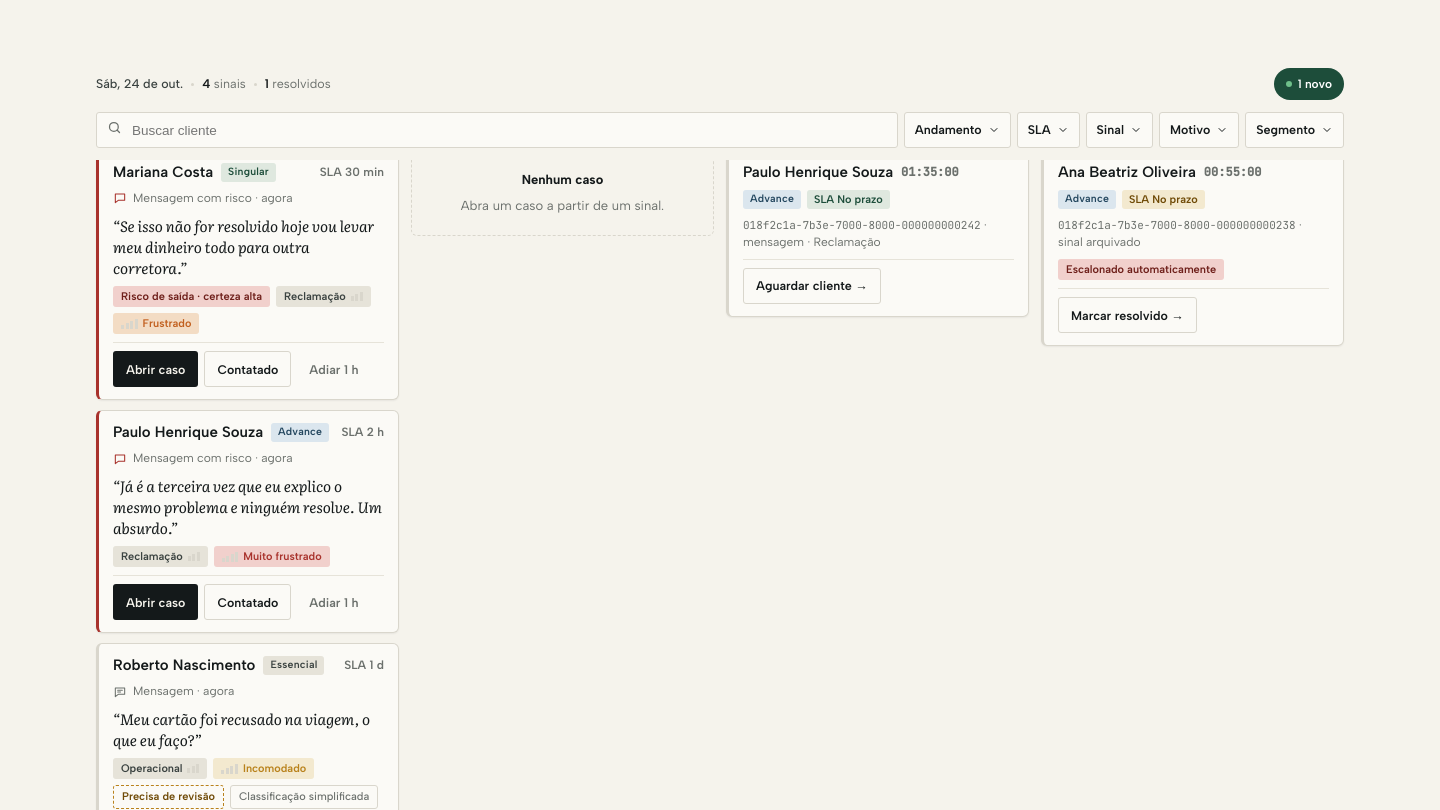
Scenario: QueueScreen › keeps a pill signal off the board after Desfazer reload
Check: the button "1 novo" is shown, box 1274,68 -> 1344,100
Click the button "Adiar 1 h" below "Risco de saída · certeza" at (334, 369), box 297,351 -> 370,387
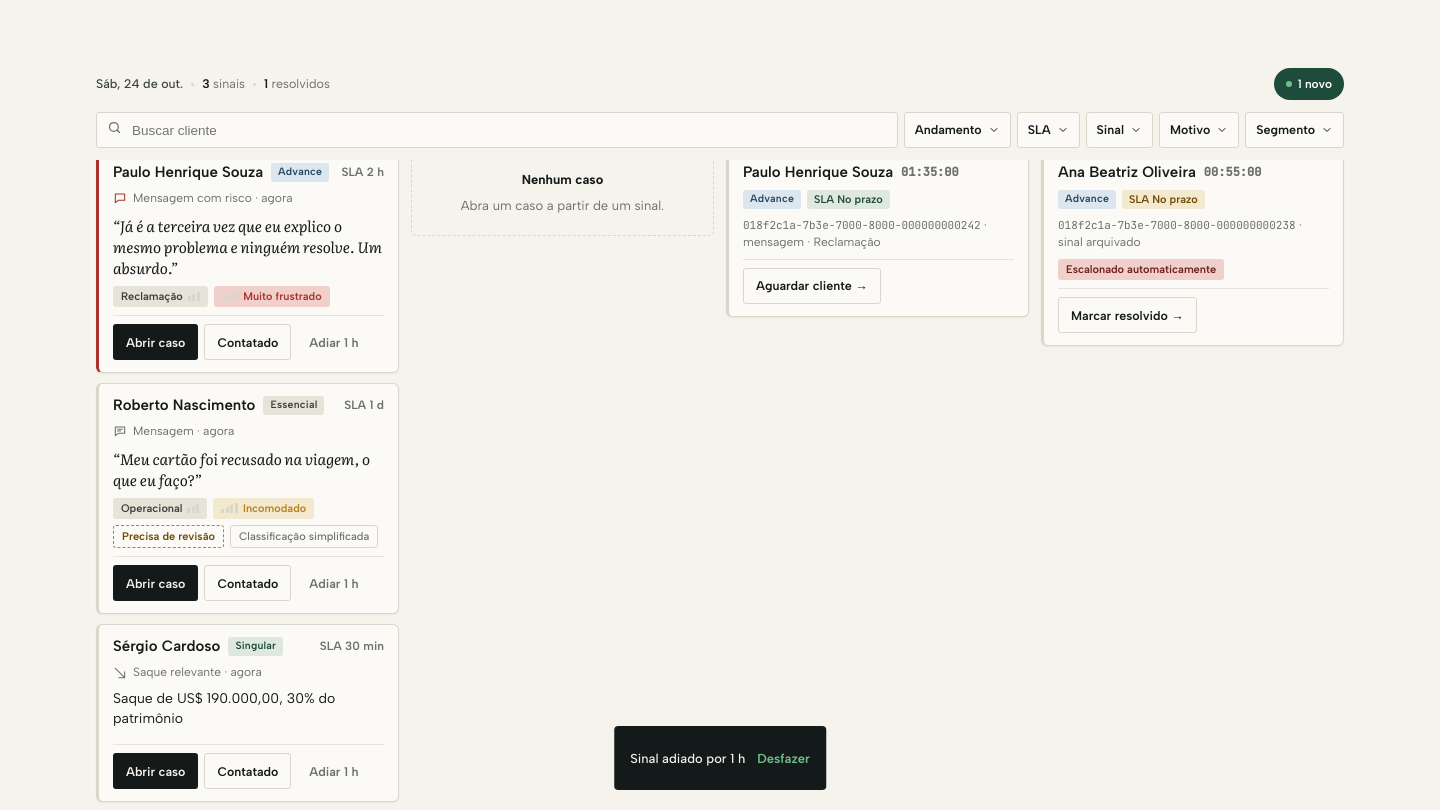
Click the button "Desfazer" at (784, 758), box 757,736 -> 810,780
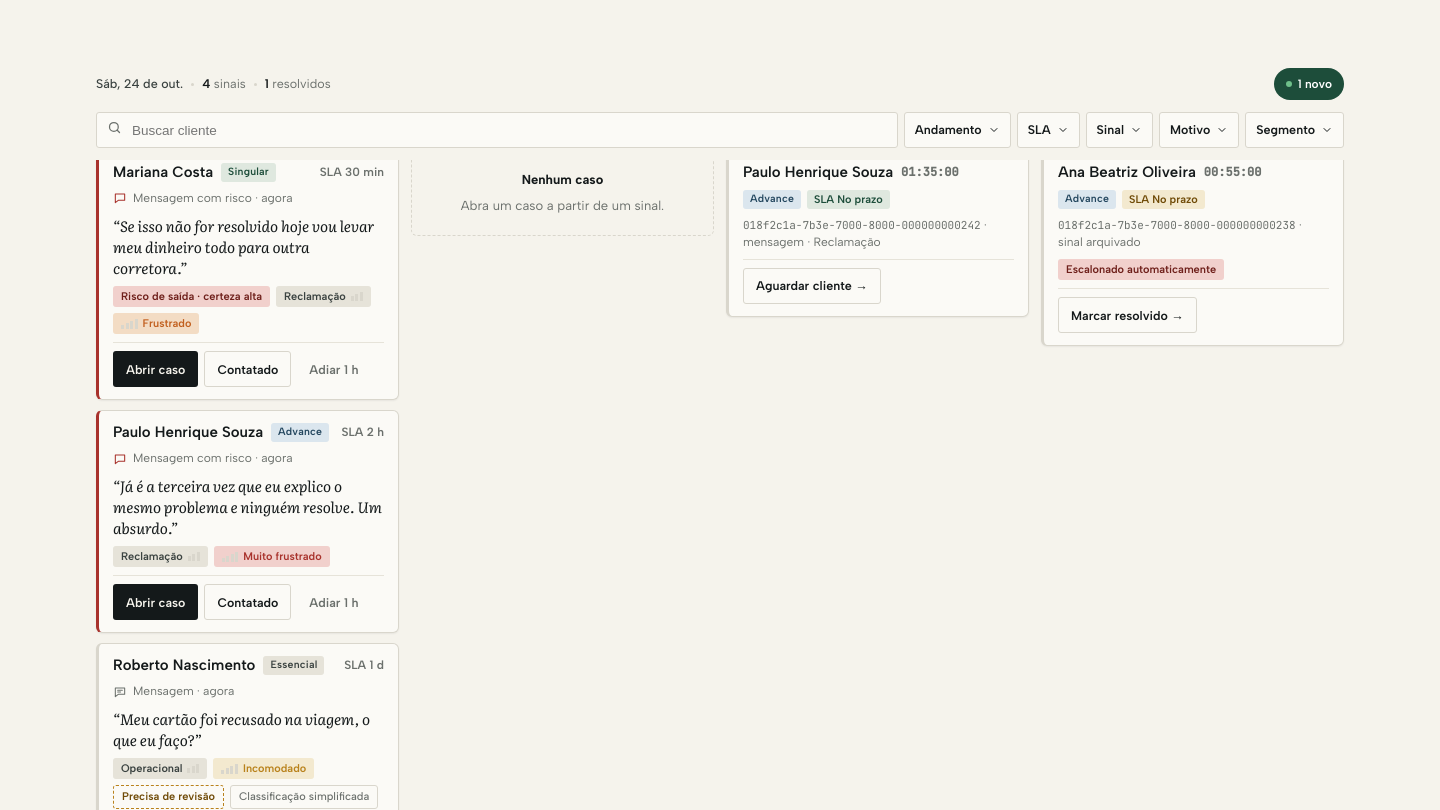
Click the button "1 novo" at (1309, 84), box 1274,68 -> 1344,100
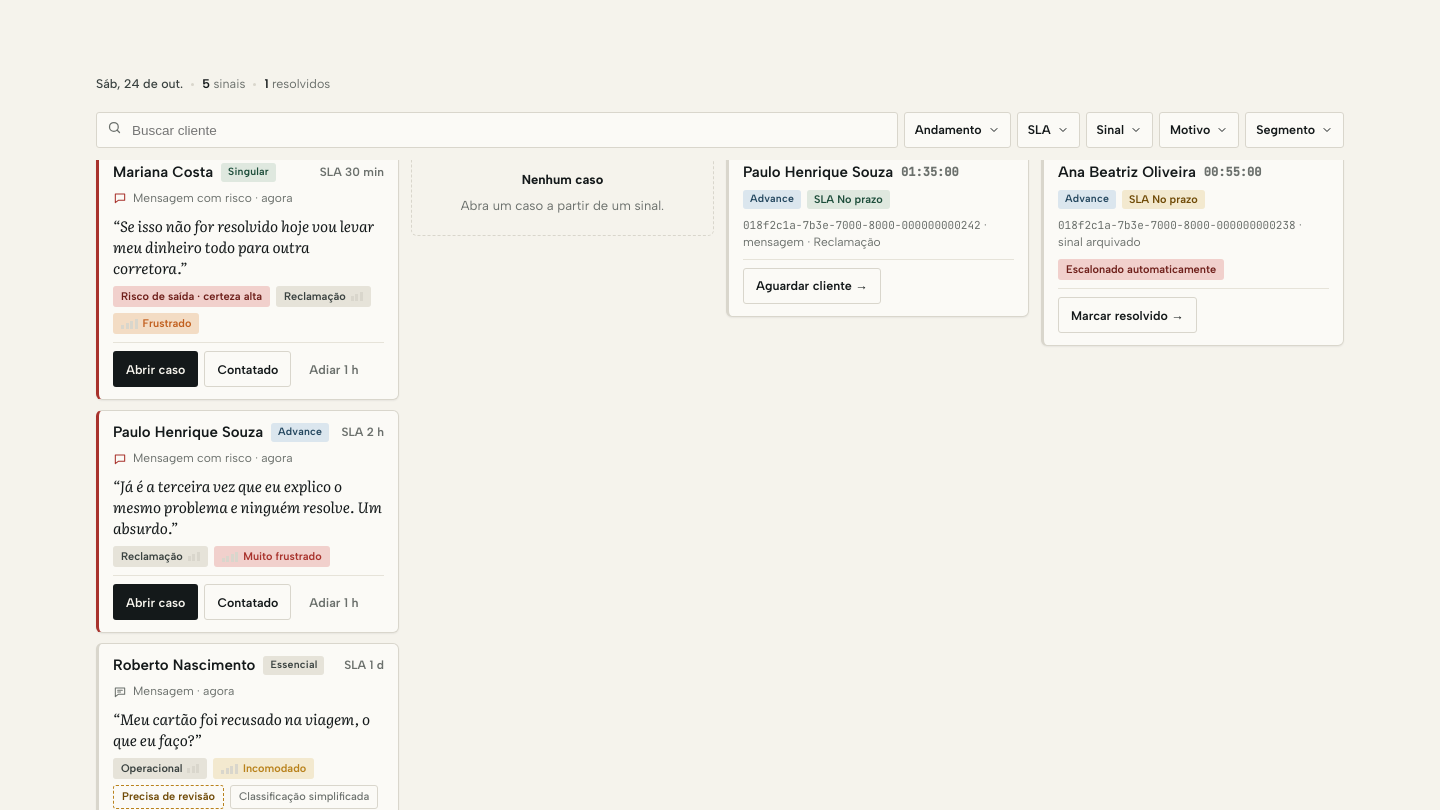
Check: the button "1 novo" is gone
